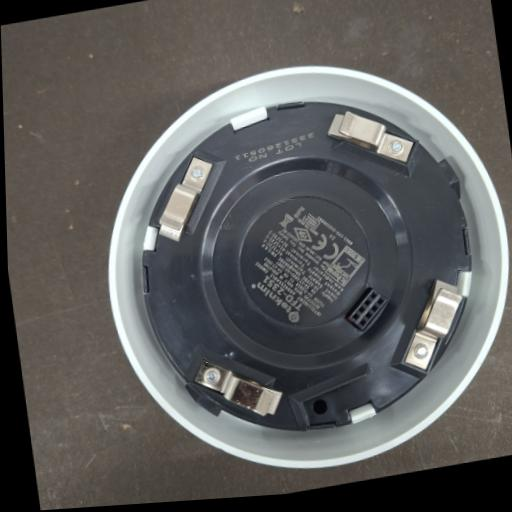yayli: (404, 280, 464, 369), (194, 361, 281, 415), (160, 157, 213, 241), (328, 111, 414, 162)
